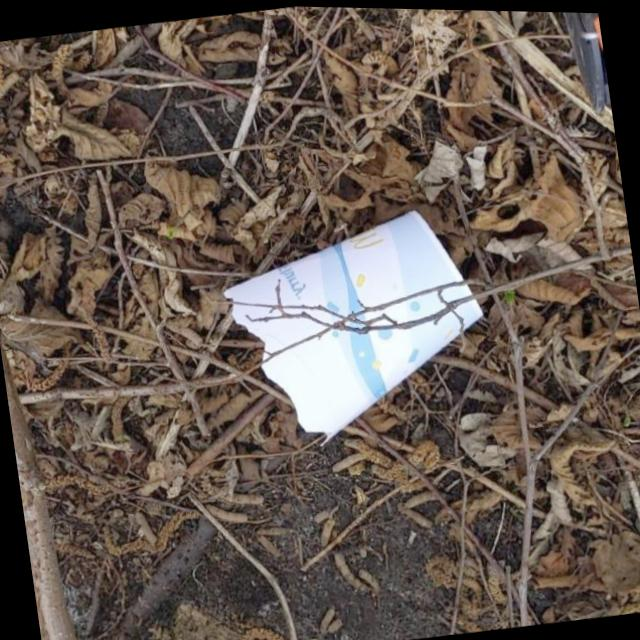Paper: (210, 193, 502, 464)
